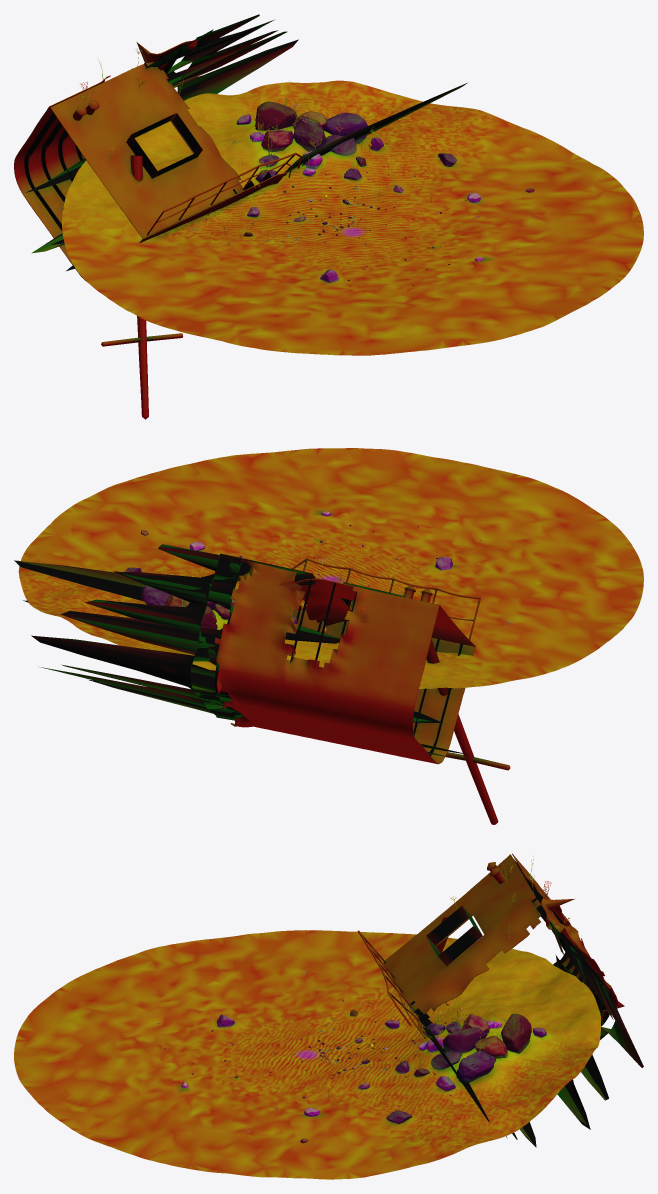
Rendered from seabed.glb.
3 renders of one model, top to bottom at view 1: azimuth 30°, elevation 25°; view 2: azimuth 150°, elevation 25°; view 3: azimuth 270°, elevation 25°, orthographic. The views are drawn at different scales.
Visible parts, largest first — view 1: terrain, wreck, rocks, flora; view 2: terrain, wreck, rocks; view 3: terrain, wreck, rocks, flora.
Boxes of the visible parts, <box> form: terrain: <box>62,80,643,355</box>; wreck: <box>14,14,467,419</box>; rocks: <box>205,101,534,303</box>; flora: <box>80,48,431,233</box>; terrain: <box>18,448,643,688</box>; wreck: <box>14,544,510,824</box>; rocks: <box>125,507,507,644</box>; terrain: <box>14,930,600,1179</box>; wreck: <box>357,853,643,1147</box>; rocks: <box>158,985,546,1143</box>; flora: <box>326,855,569,1097</box>.
Bounding box in the file's own units: 12000 × 6632 × 12876.
